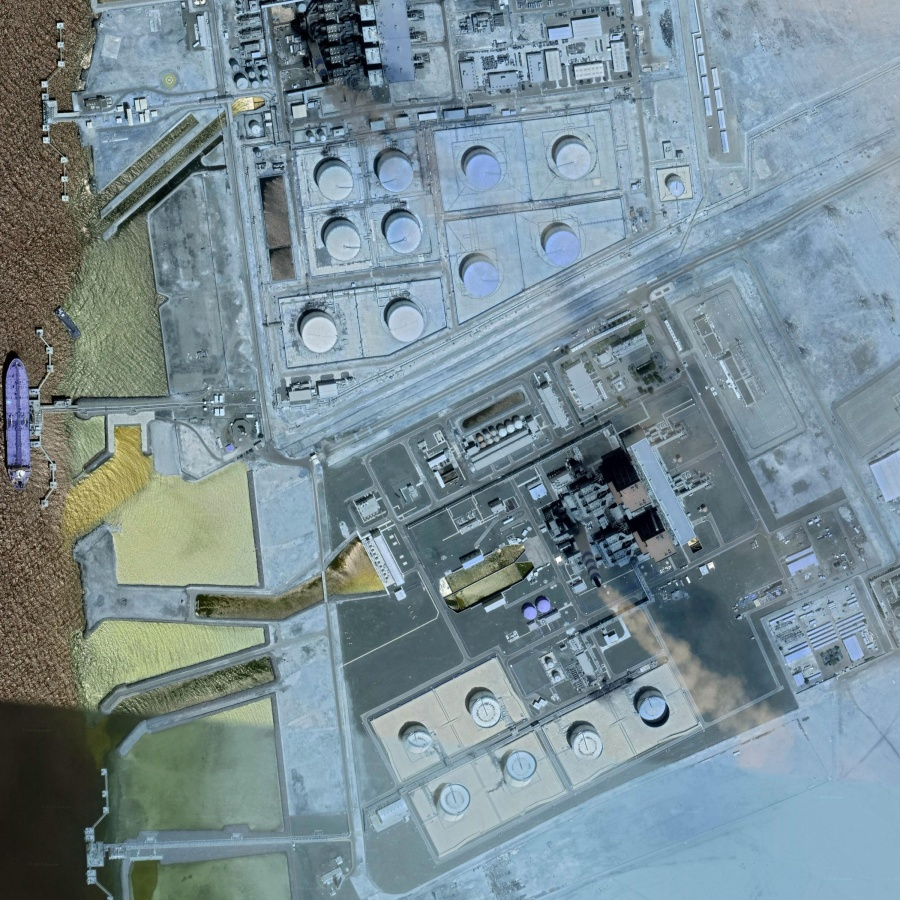PowerPlant: (247, 111, 627, 374)
